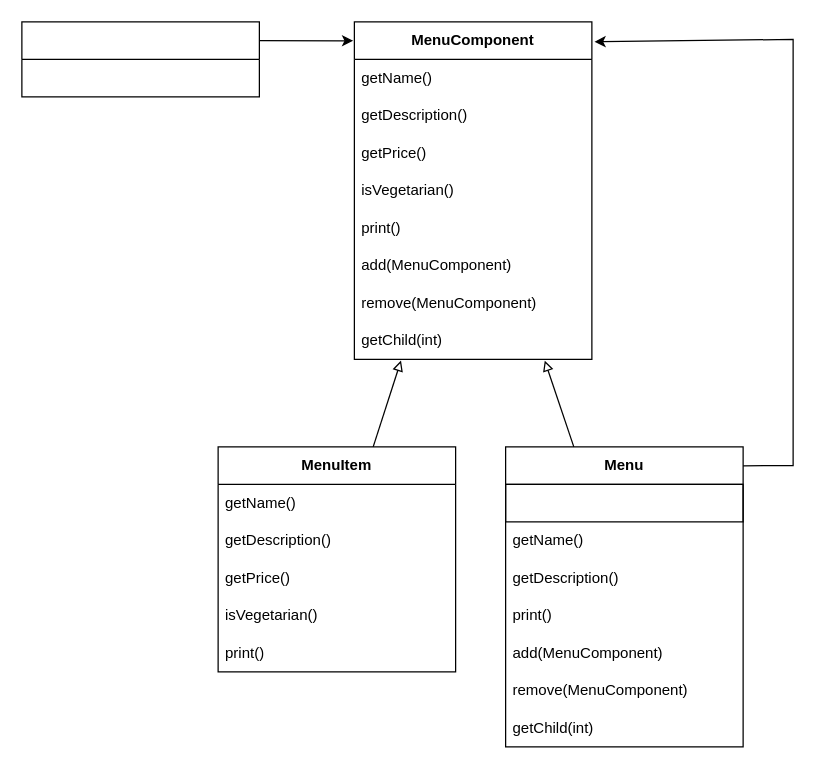
Image size: 825x769. Some labels were removed from this diagram. Each missing label, with the centre of its shape:
menuComponents: the point at 623,502
Waitress: the point at 140,59
